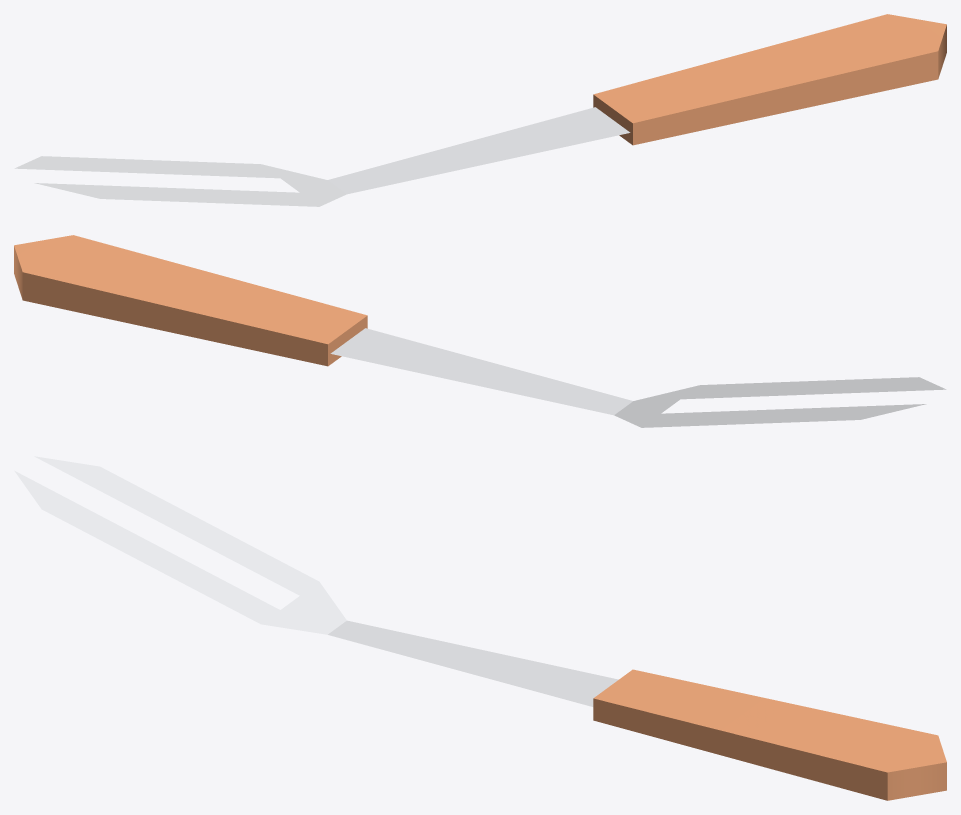
The model's file is Cooking_Fork.glb.
3 views of the same model, one above another, from view 1: azimuth 30°, elevation 25°; view 2: azimuth 150°, elevation 25°; view 3: azimuth 330°, elevation 25° (orthographic).
Parts seen in each view (by area): view 1: cookingFork; view 2: cookingFork; view 3: cookingFork.
Boxes of the visible parts, x1=… form: cookingFork: x1=14, y1=14, x2=946, y2=206; cookingFork: x1=14, y1=235, x2=946, y2=427; cookingFork: x1=14, y1=456, x2=946, y2=800.
Bounding box in the file's own units: 0.6827 × 0.0721 × 0.0749.
